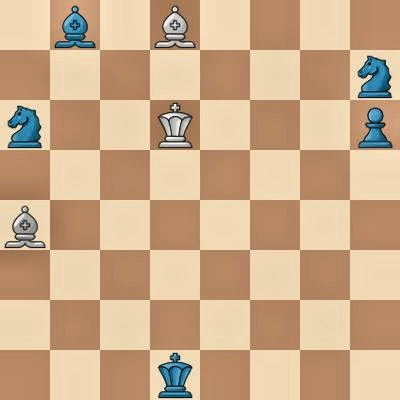black-bishop: (50, 0, 100, 50)
black-king: (150, 350, 200, 400)
black-knight: (350, 50, 400, 100), (0, 100, 50, 150)
black-pawn: (350, 100, 400, 150)
white-bishop: (150, 0, 200, 50), (0, 200, 50, 250)
white-king: (150, 100, 200, 150)
